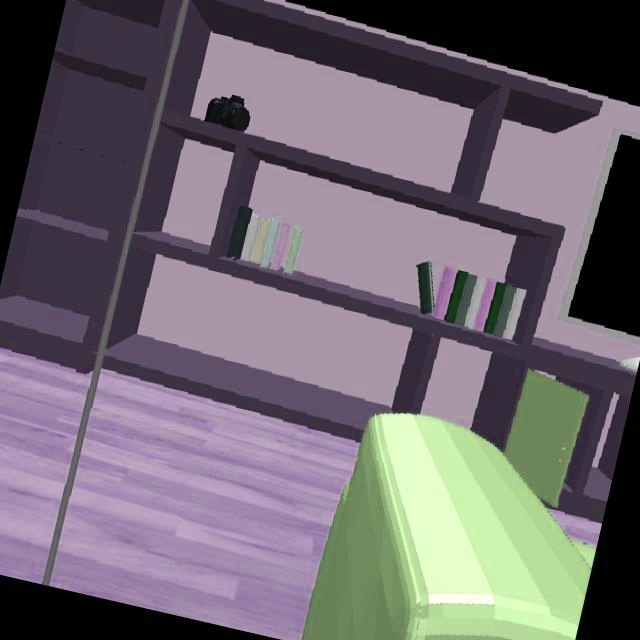book: (418, 262, 524, 339), (229, 208, 289, 270), (283, 227, 303, 274)
monitor: (559, 128, 640, 342)
shelf: (104, 0, 634, 507)
